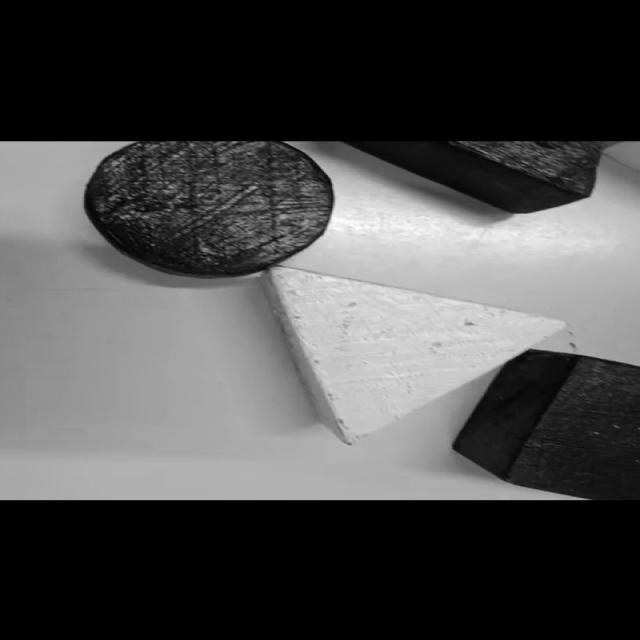bcircle: (86, 144, 334, 277)
bcube: (456, 347, 640, 497)
ytriangle: (262, 267, 565, 444)
